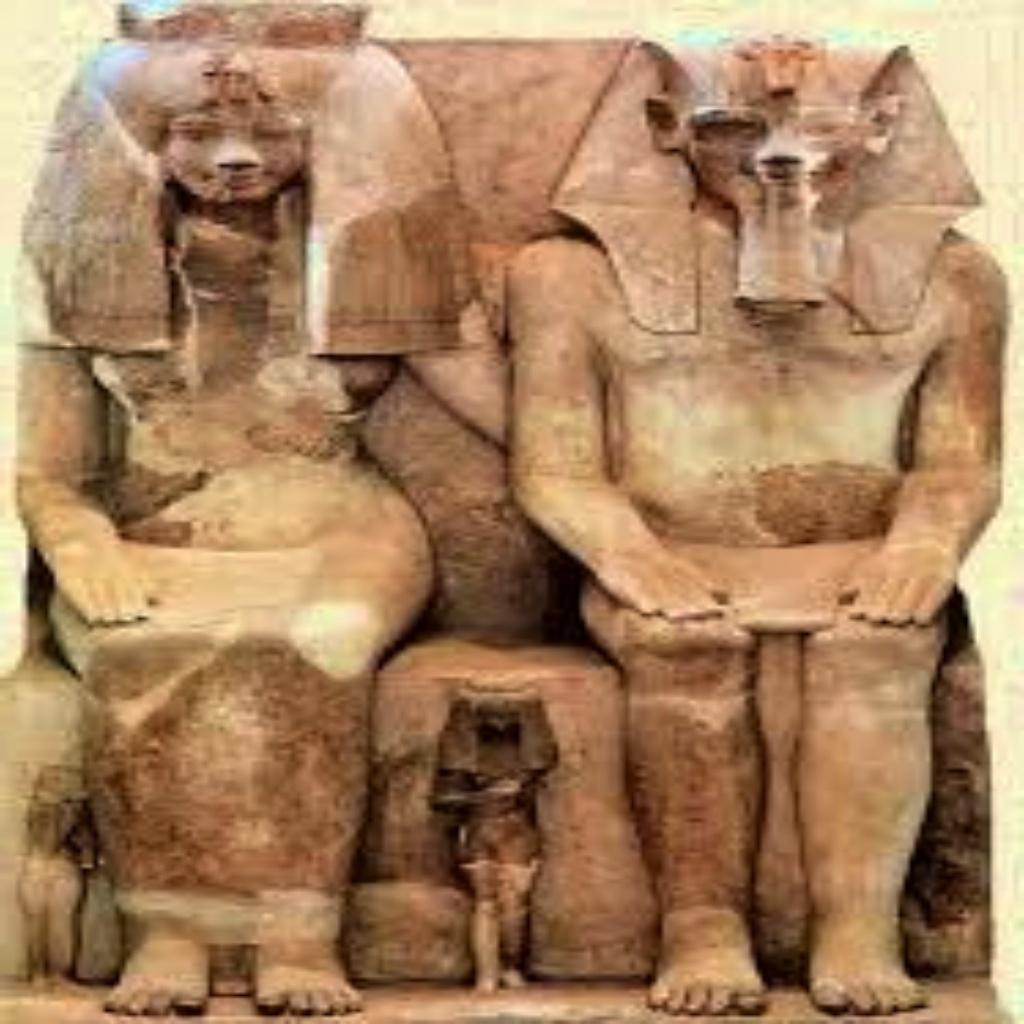Amenhotep III and Tiye: (0, 30, 1013, 1016)
